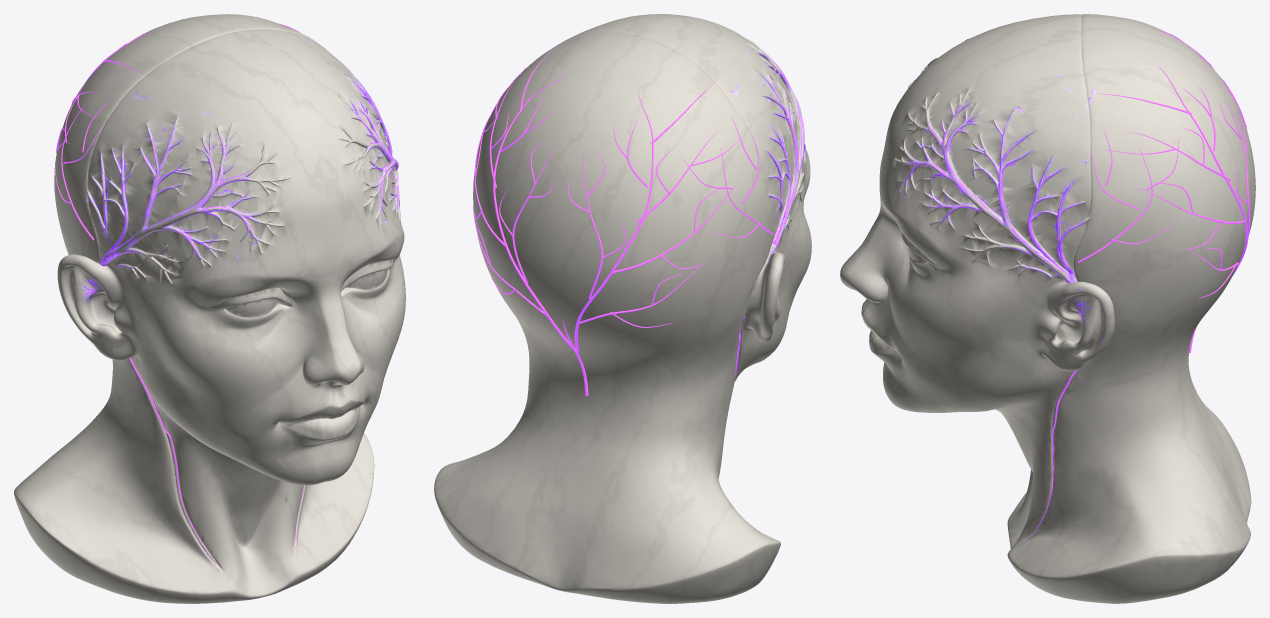
Rendered from cymba-neural-mannequin.glb.
3 views of the same model, side by side, from view 1: azimuth 30°, elevation 25°; view 2: azimuth 150°, elevation 25°; view 3: azimuth 270°, elevation 25° (orthographic). The views are drawn at different scales.
Visible parts, largest first — view 1: Cymba_Marble_Mannequin, Purple_Surface_Nerve_Fibres; view 2: Cymba_Marble_Mannequin, Purple_Surface_Nerve_Fibres; view 3: Cymba_Marble_Mannequin, Purple_Surface_Nerve_Fibres.
Boxes of the visible parts, left/top/right/bottom form: Cymba_Marble_Mannequin: left=14, top=14, right=405, bottom=603; Purple_Surface_Nerve_Fibres: left=54, top=24, right=303, bottom=570; Cymba_Marble_Mannequin: left=434, top=14, right=811, bottom=603; Purple_Surface_Nerve_Fibres: left=473, top=49, right=773, bottom=396; Cymba_Marble_Mannequin: left=840, top=14, right=1255, bottom=603; Purple_Surface_Nerve_Fibres: left=1023, top=30, right=1249, bottom=541.
Bounding box in the file's own units: 2.77 × 4.28 × 3.07.
2 materials, 1 textured.
